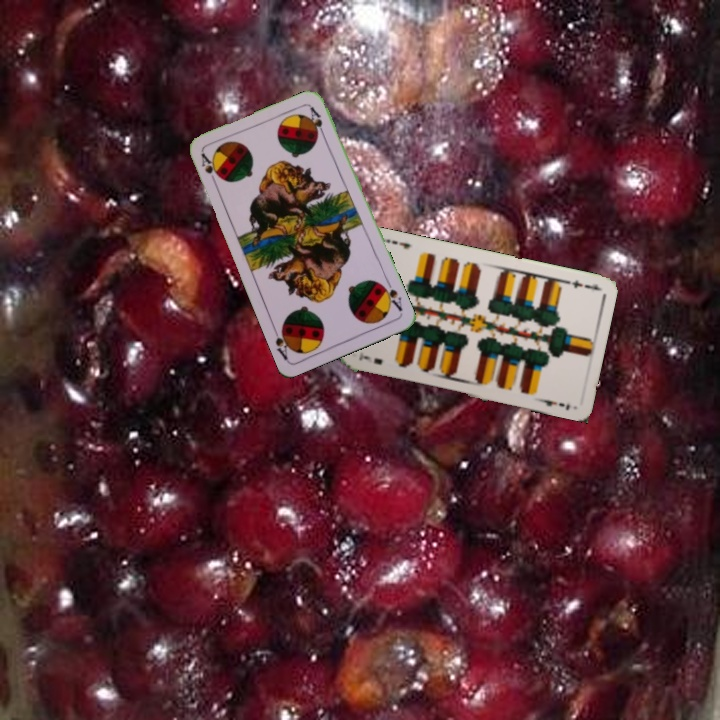E7: (562, 276, 602, 293), (355, 349, 385, 367)
SA: (197, 149, 225, 188), (377, 276, 405, 314)
